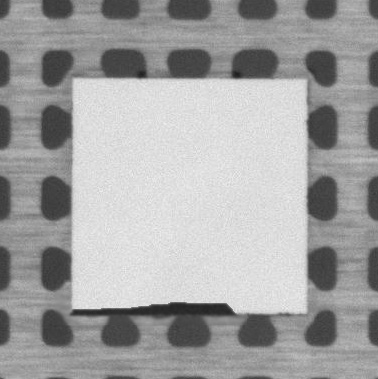DIE_BROKEN: (70, 301, 239, 317)
